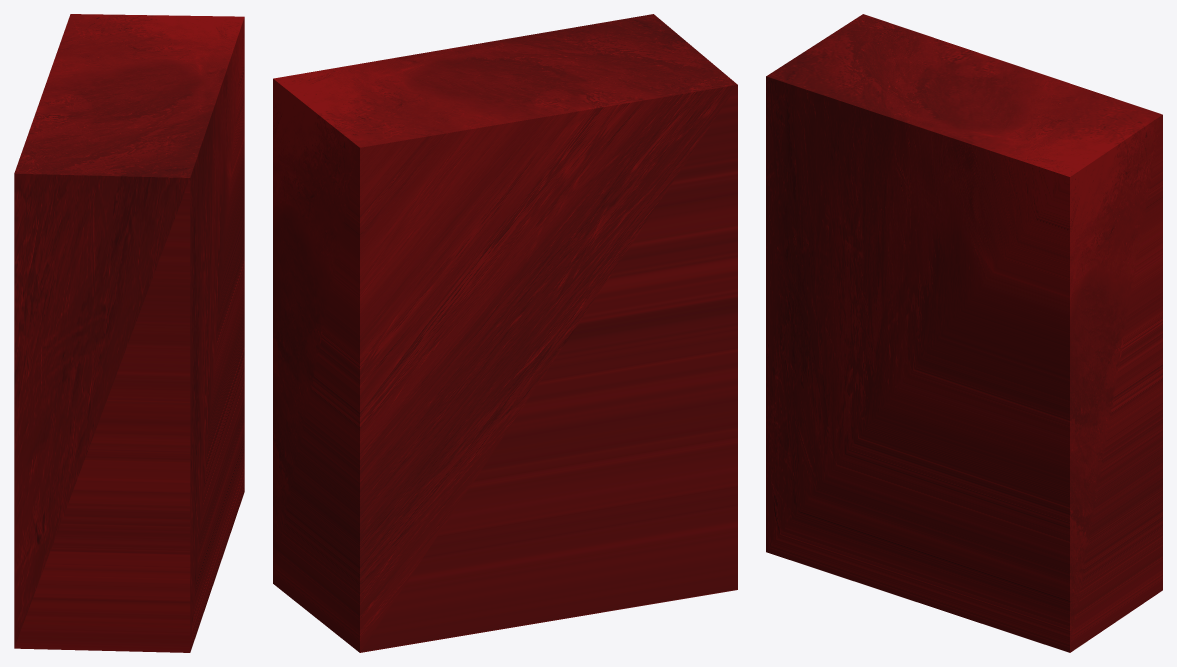
File: rouge2.FBX
3 renders of one model, left to right at view 1: azimuth 30°, elevation 25°; view 2: azimuth 150°, elevation 25°; view 3: azimuth 270°, elevation 25°, orthographic. The views are drawn at different scales.
Parts seen in each view (by area): view 1: Ligne023; view 2: Ligne023; view 3: Ligne023.
Part boxes in pixels (x1,y1,x2,y2): Ligne023: (14,14,244,652); Ligne023: (273,14,737,652); Ligne023: (766,14,1162,652).
Size of the model in its own units: 2.81 by 3.82 by 2.89.
1 material, 1 textured.
